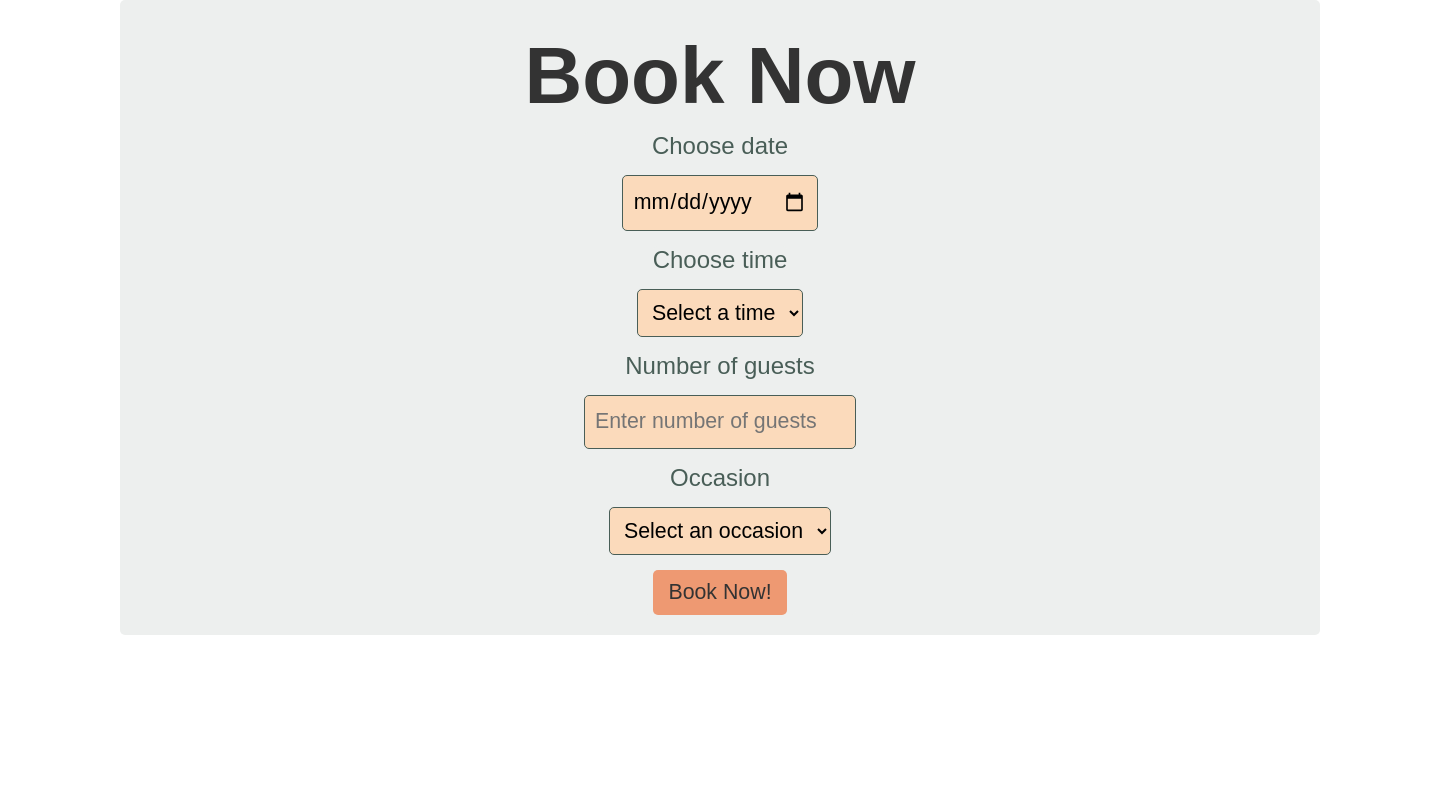
Test case: validateGuests gives error for out of range values
This screenshot has width=1440, height=810.
In the number field labelled "Number of guests": coordinates (720, 422) [584,395,856,449], type "15"
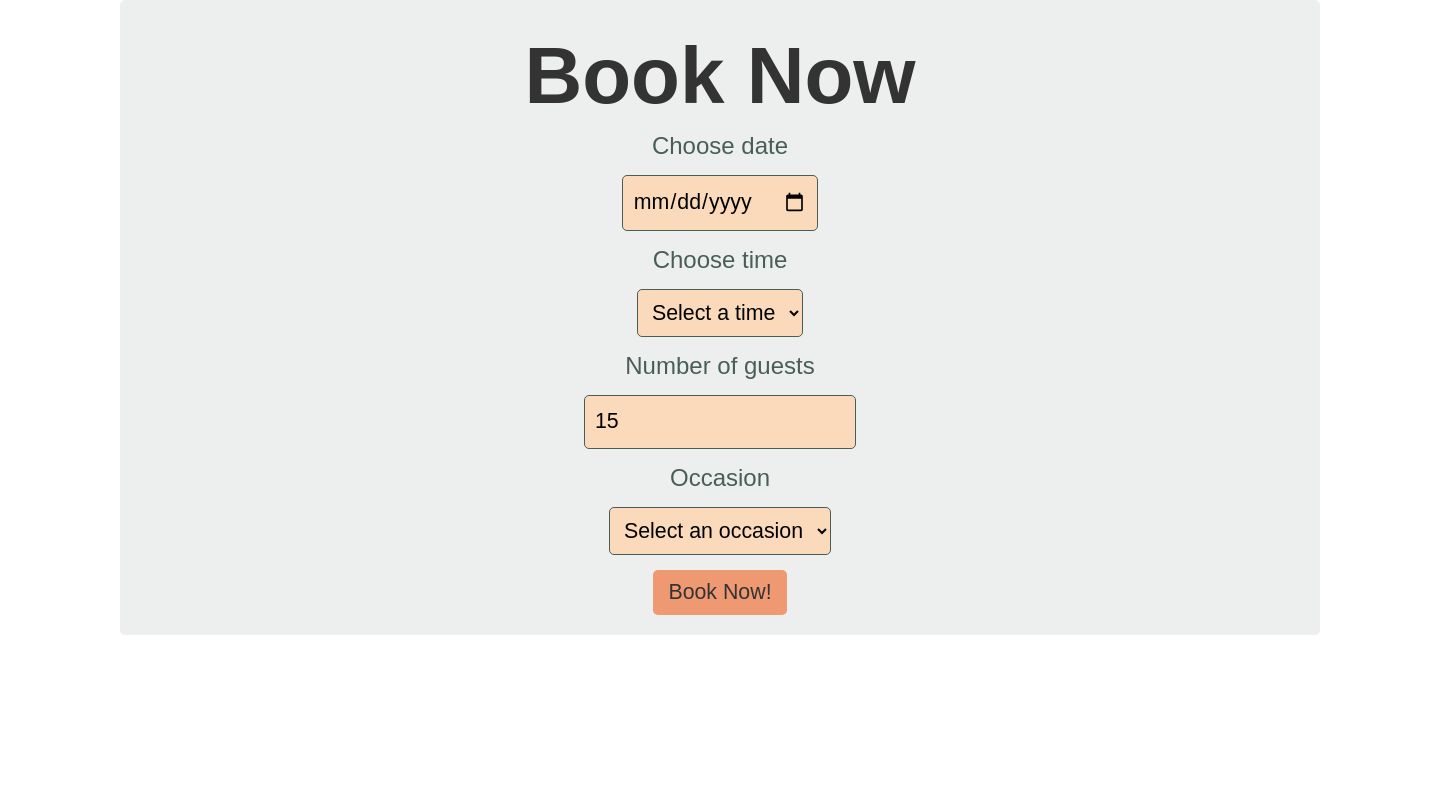
Leave the number field labelled "Number of guests", box [584,395,856,449]
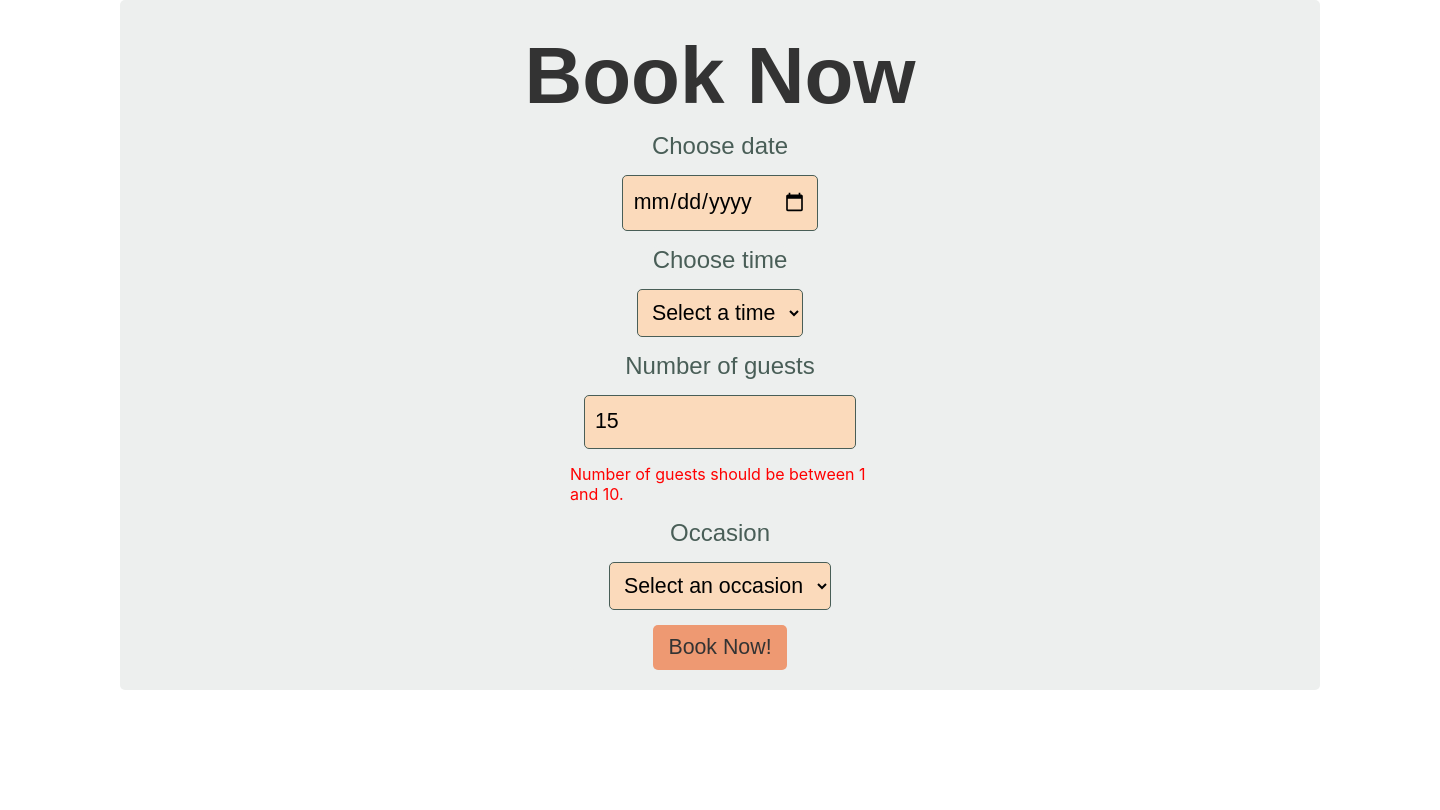
Expected: the text "Number of guests should be between 1 and 10." is shown, [570,464,870,504]
